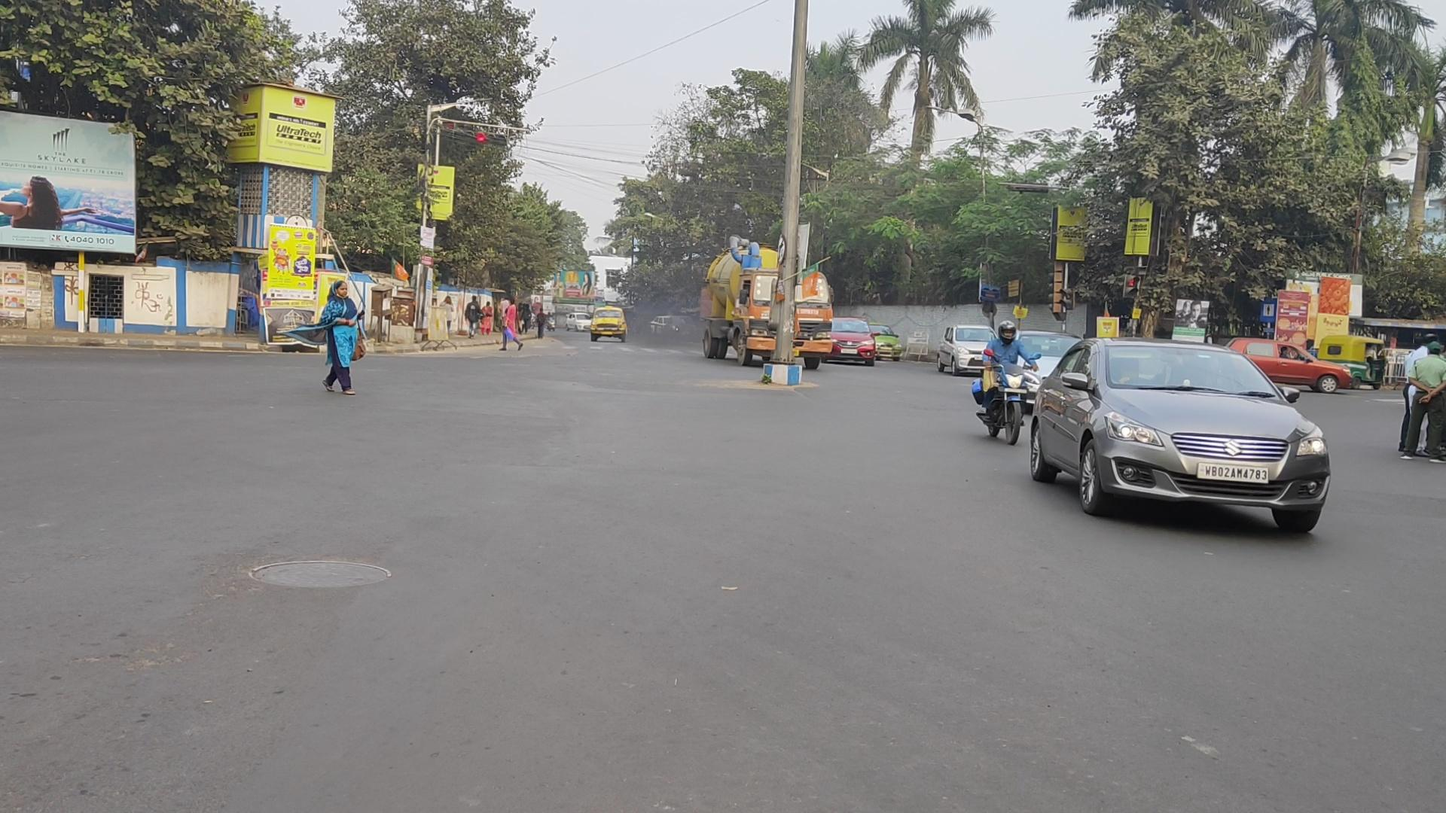Auto: (1317, 334, 1390, 391)
bike: (972, 320, 1042, 448)
car: (1030, 337, 1332, 532), (1216, 337, 1353, 394), (936, 324, 1005, 377), (821, 315, 875, 367), (867, 321, 902, 362), (590, 306, 627, 343), (566, 312, 592, 332)
truck: (701, 234, 834, 370)
